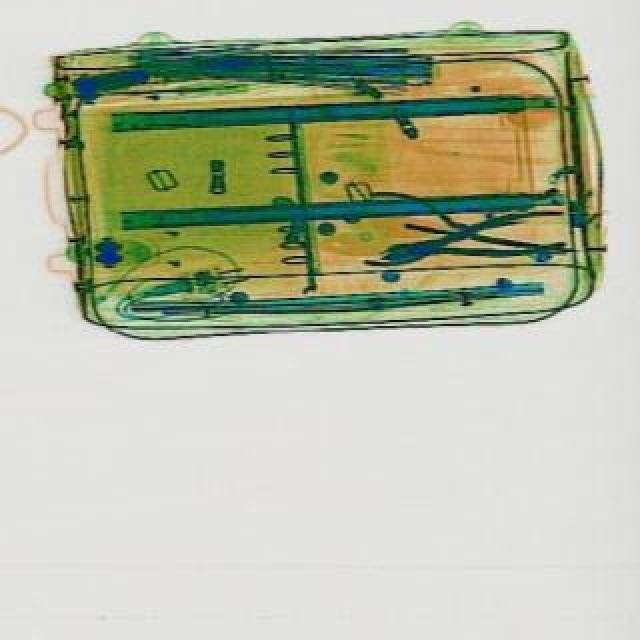wrench: (382, 208, 570, 280), (366, 194, 526, 274)
